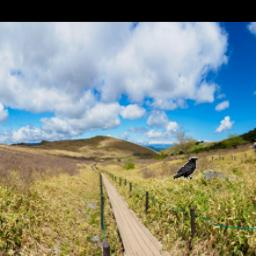Crow: (174, 158, 199, 180)
